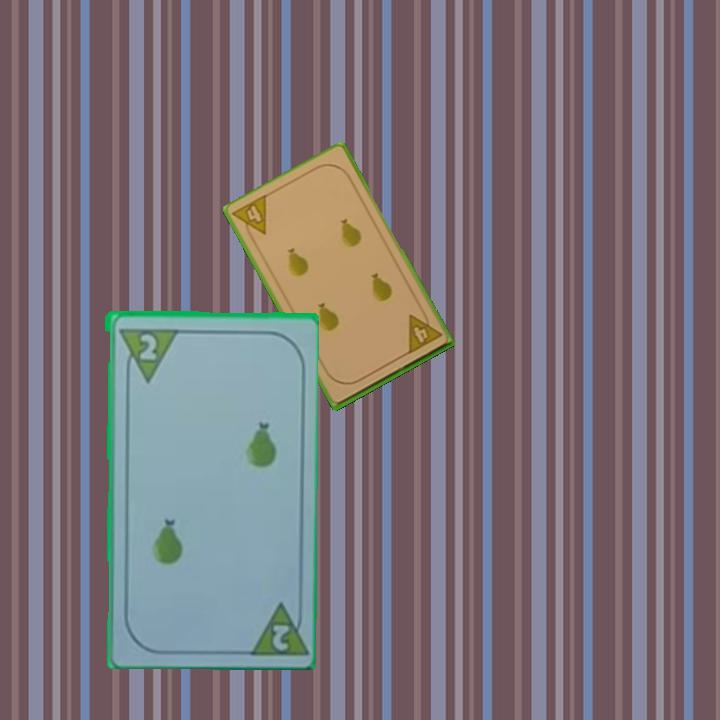2p: (242, 596, 307, 657), (115, 324, 178, 384)
4p: (229, 191, 270, 245), (404, 306, 445, 356)
